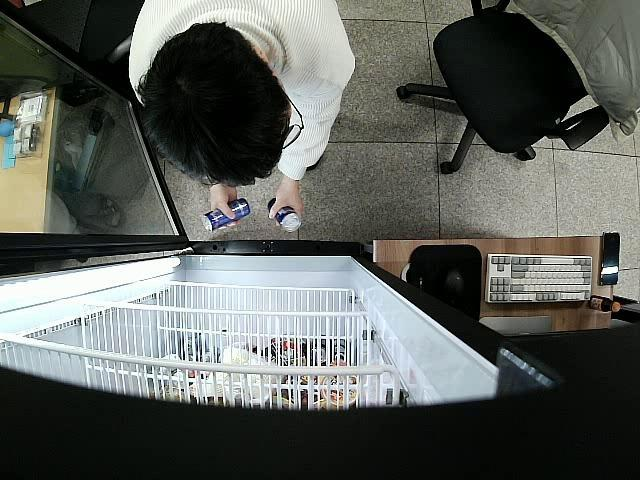16_hot6: (202, 198, 252, 234), (266, 198, 302, 234)
